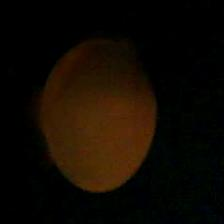fertile: (32, 34, 162, 196)
